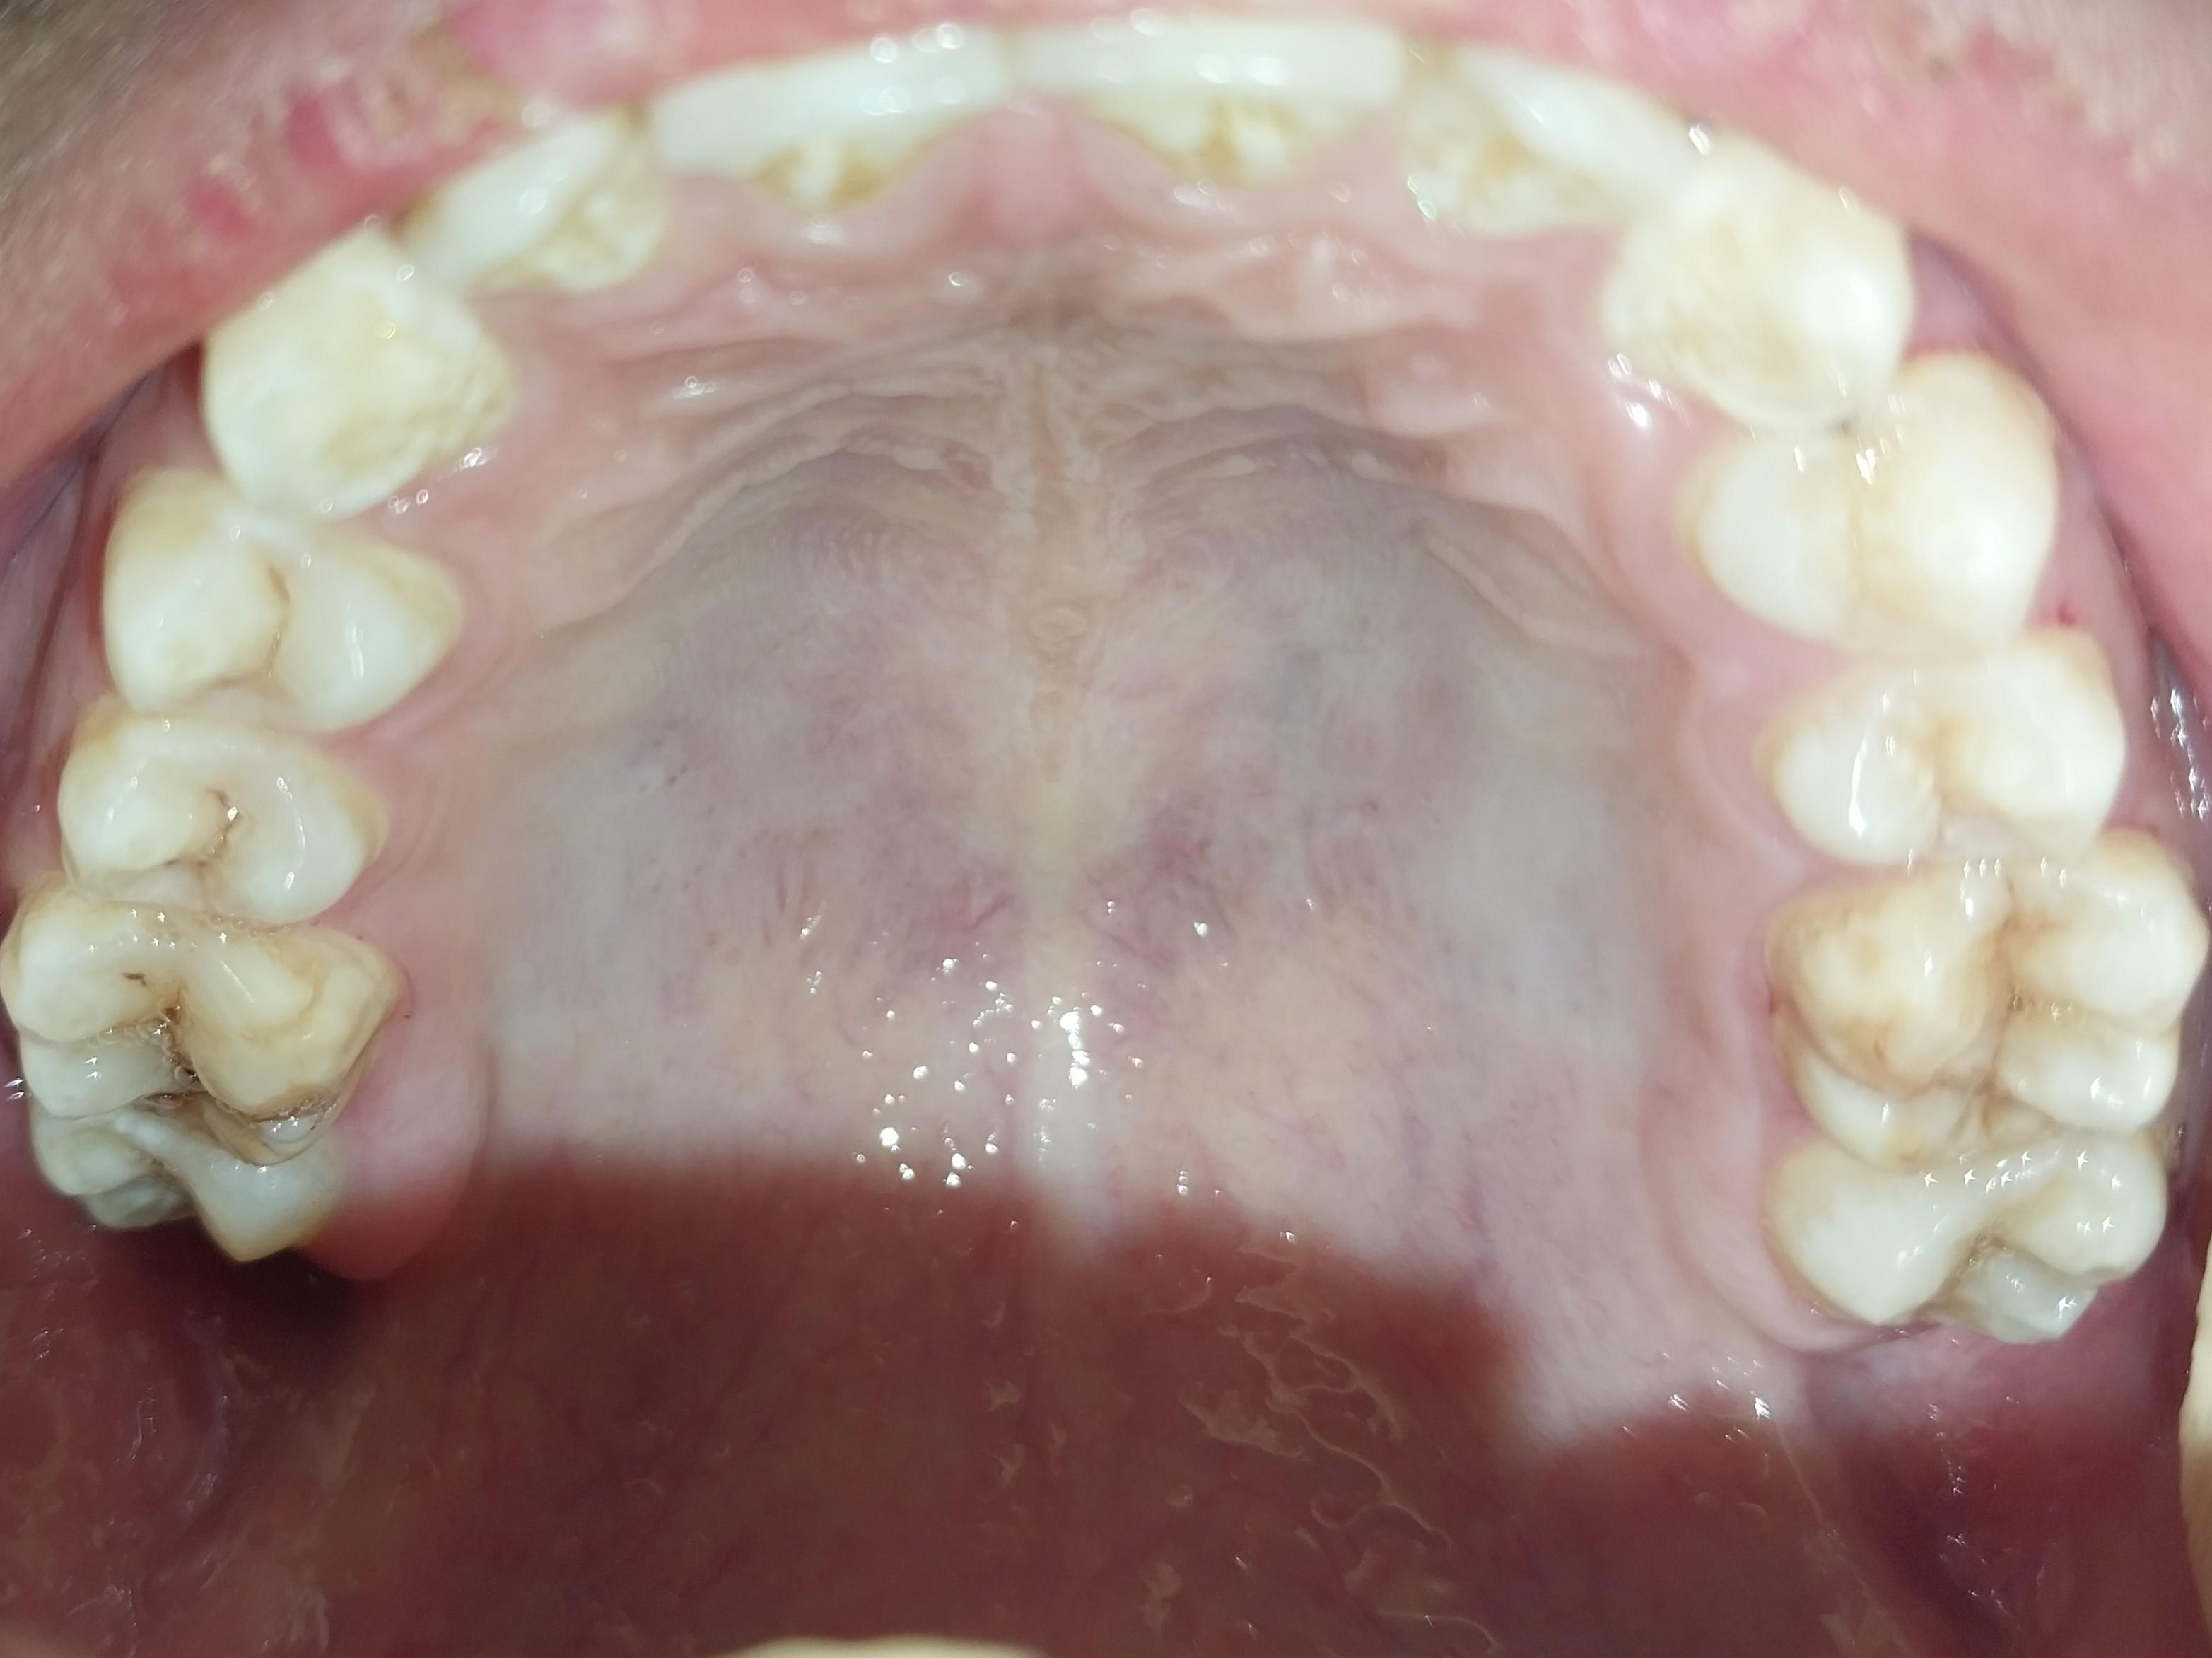D: (6, 899, 390, 1168), (37, 716, 382, 936)
